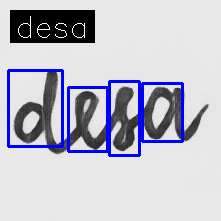a: (141, 84, 188, 144)
d: (12, 68, 64, 156)
e: (72, 88, 101, 153)
s: (108, 84, 137, 153)
